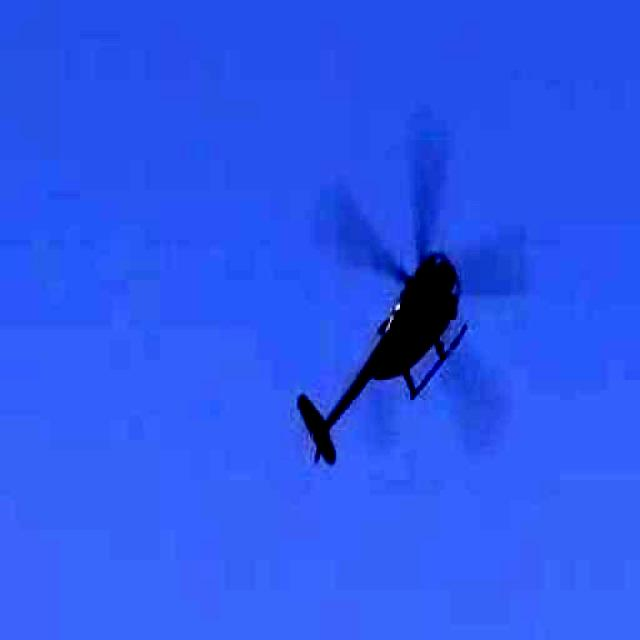drone: (266, 100, 564, 478)
